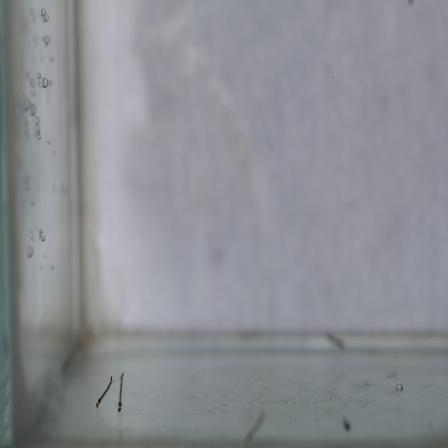Jentik-Nyamuk: (92, 370, 127, 416)
